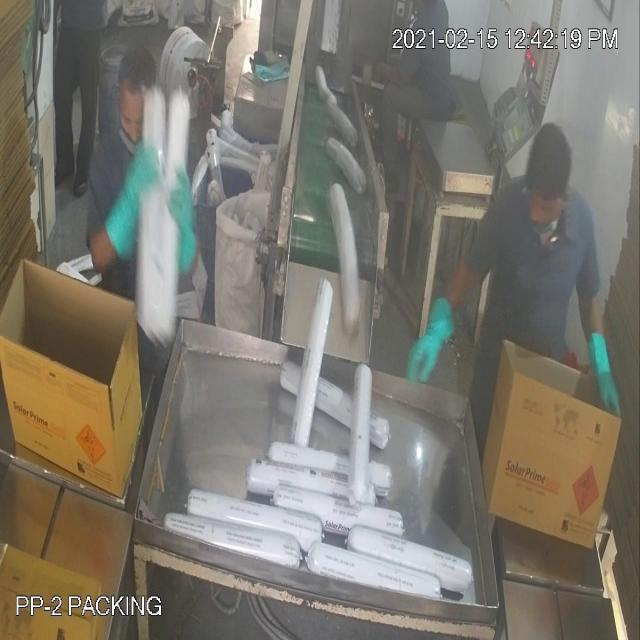Gloves: (57, 114, 603, 380)
